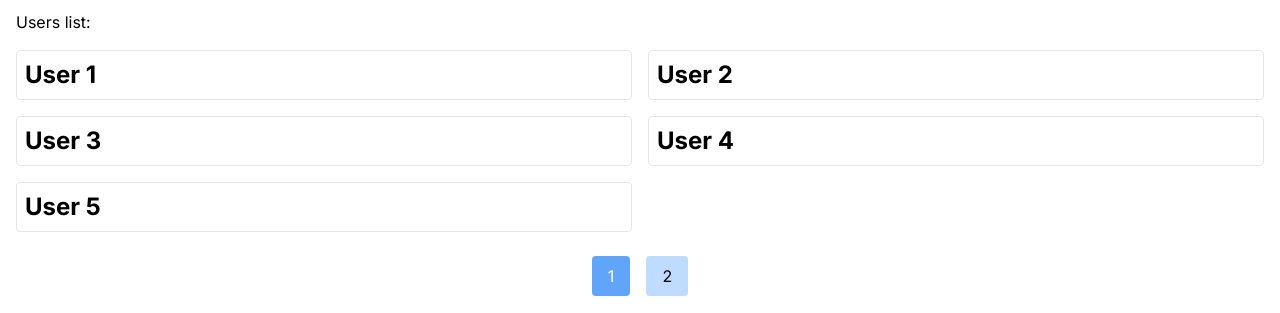
Test: UsersPage › changes page when pagination button is clicked
The width and height of the screenshot is (1280, 313).
// Click the second page button
Click the button "2": (667, 276) [646, 256, 688, 296]
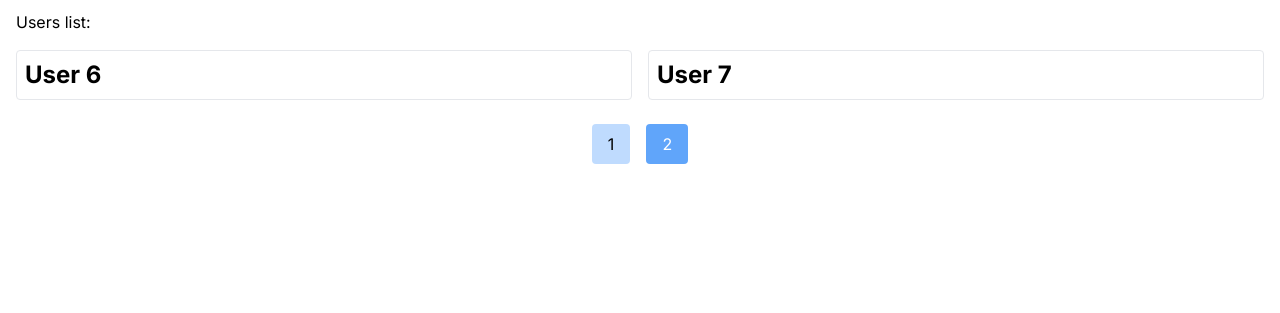
Expected: the text "User 6" is shown, [25, 60, 101, 89]
Expected: the text "User 7" is shown, [657, 60, 732, 89]
Expected: the link "User 1" is gone
